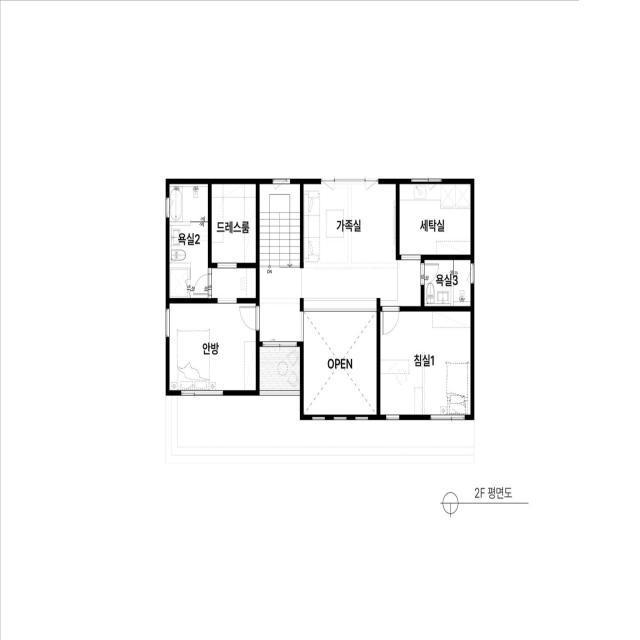space_bedroom: (380, 311, 471, 415), (169, 303, 256, 390)
space_dressroom: (212, 184, 256, 263), (212, 268, 256, 298)
space_living_room: (260, 184, 421, 341)
space_other: (304, 311, 377, 415), (399, 184, 471, 255)
space_staircase: (260, 184, 300, 268)
space_toilet: (169, 184, 208, 298), (424, 260, 471, 306)
